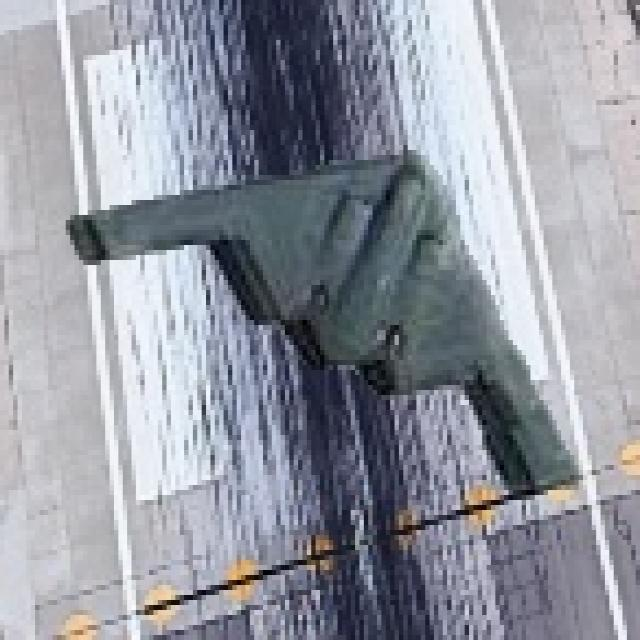B-2_TopDown: (61, 140, 583, 500)
